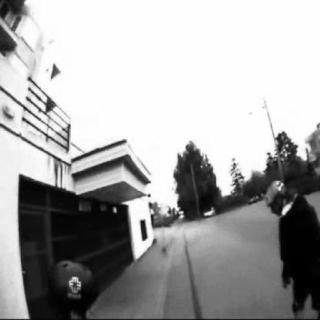other: (25, 196, 142, 268), (70, 144, 149, 204), (22, 13, 68, 111), (160, 148, 181, 222)
